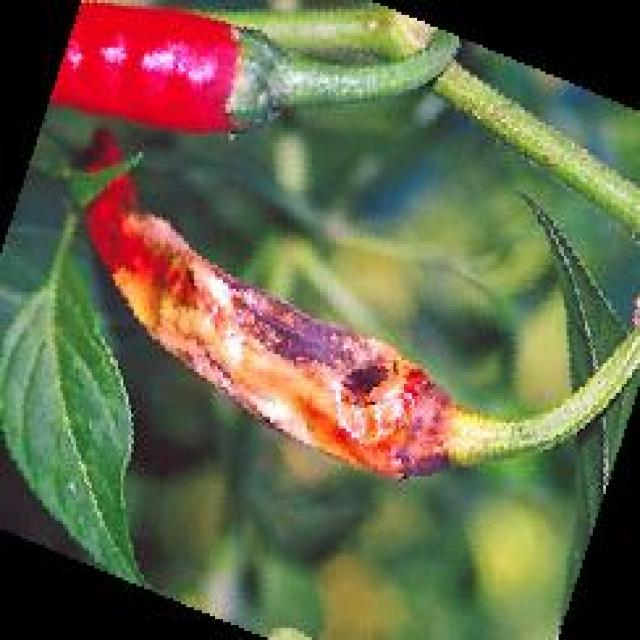Moko: (93, 118, 490, 522)
